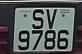6: (56, 28, 70, 51)
7: (29, 29, 45, 51)
8: (44, 29, 57, 51)
9: (17, 29, 32, 52)
S: (30, 8, 46, 32)
V: (44, 8, 59, 31)
